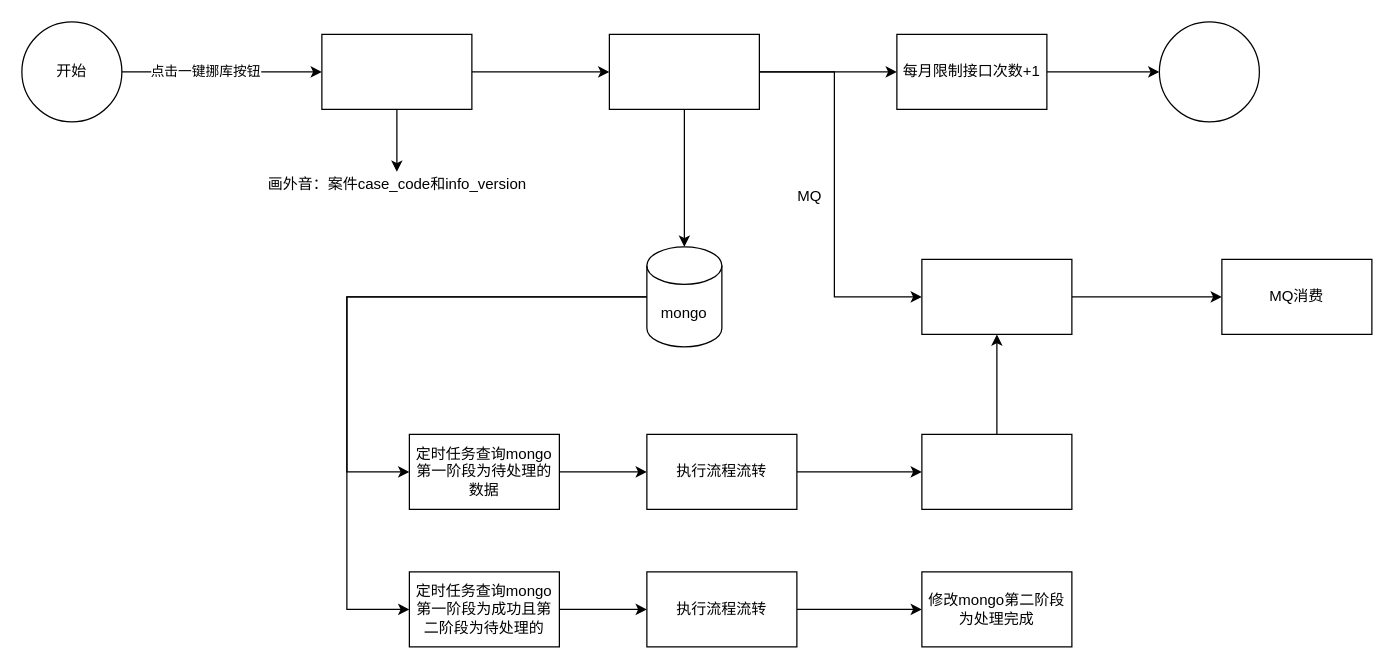
Image size: 1394x669. Some labels were removed from this diagram. Each missing label, with the box of its shape:
修改mongo第一阶段为处理完成: (921, 433, 1072, 509)
发送MQ: (921, 258, 1072, 334)
接口返回成功: (1158, 21, 1259, 122)
插入数据到mongo，第一阶段、第二阶段的状态都为待处理: (608, 33, 759, 109)
查询所有处于【邮件通知用户进入公示期】的案件list: (321, 33, 472, 109)
